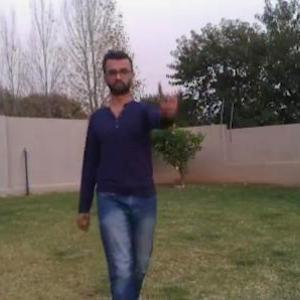takeoff-hand: (152, 76, 184, 113)
